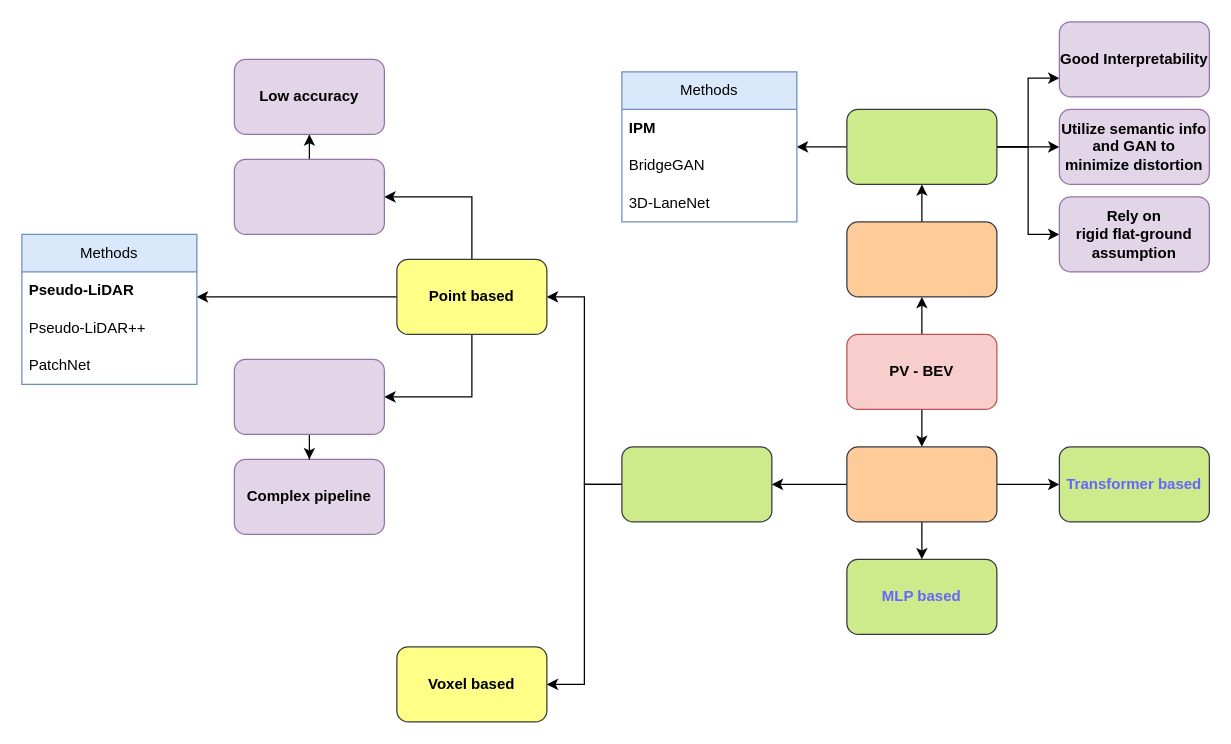
This 1231x744 diagram has some shape labels left out. Here are the shapes that lost their labels. From the top down, the centre of each, then its label:
At point (921, 146): "Homograph based".
At point (308, 196): "Denser points with large computation burden".
At point (921, 259): "GeometryDriven".
At point (308, 396): "Data leakage".
At point (696, 484): "Depth based".
At point (921, 484): "DataDriven".
